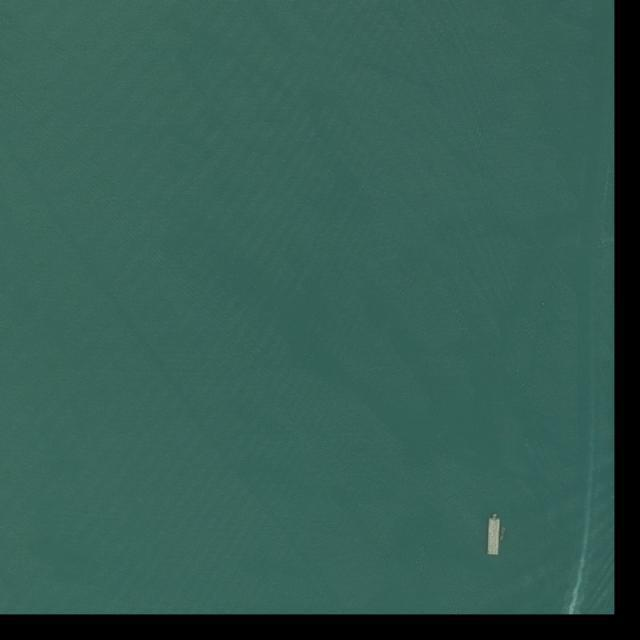ship: (488, 514, 501, 556), (500, 527, 506, 542)
